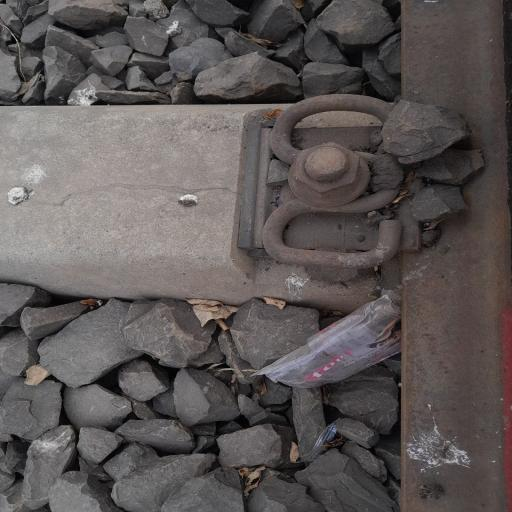bolt: (286, 136, 370, 194)
clip: (244, 88, 440, 278)
